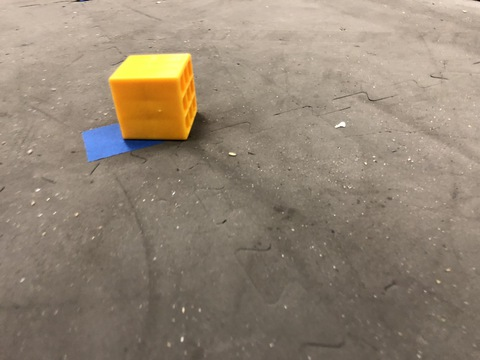block: (97, 50, 221, 170)
